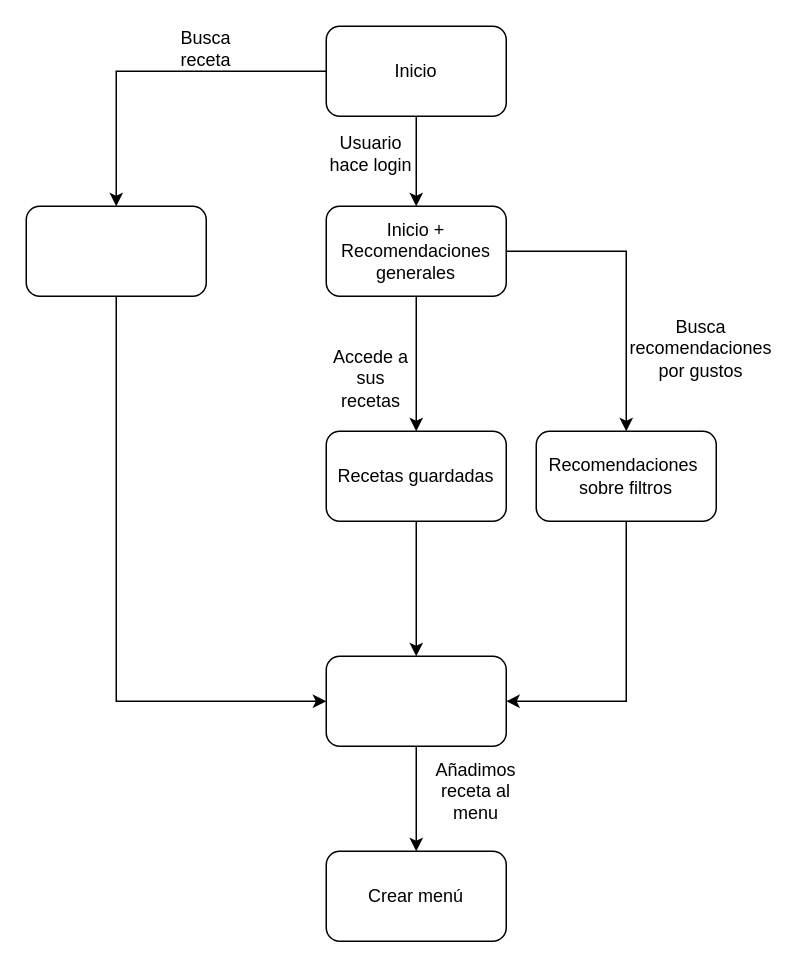
The diagram is 798 pixels wide and 968 high, and some of its shapes have lost their labels. Here are the shapes that lost their labels. From the top down, the box of each, then its label:
(25, 205, 206, 296): Resultados busqueda
(325, 655, 506, 746): Información receta
